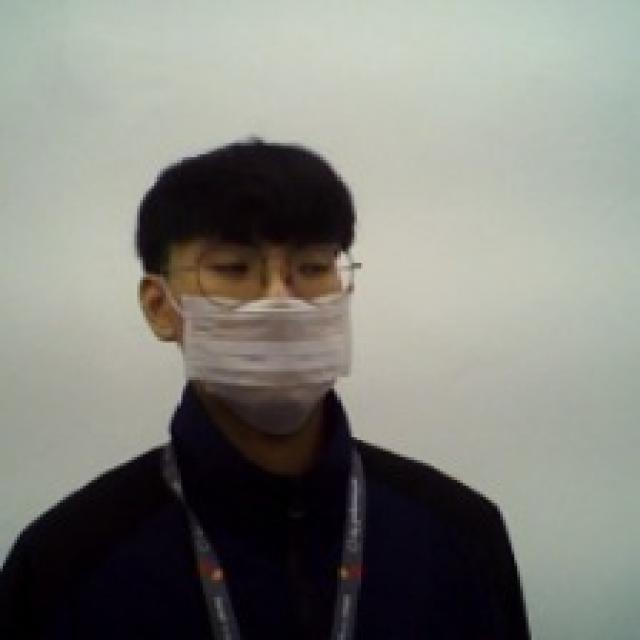mask: (134, 275, 362, 440)
no_gloves: (130, 128, 366, 282)
